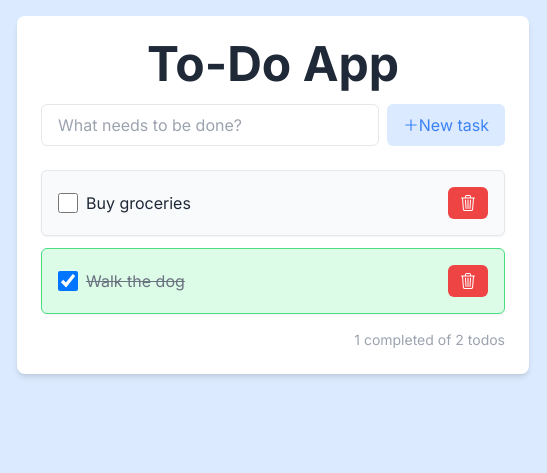
it: adds a new todo
Type "Feed the cat" into the field with test id "todo-textinput".
click(210, 125); type("Feed the cat")  # box [41,104,379,146]
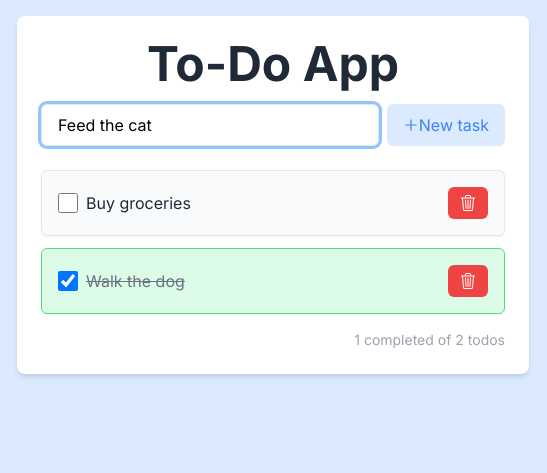
Click the button with test id "todo-submit-button".
click(446, 125)  # box [387,104,505,146]
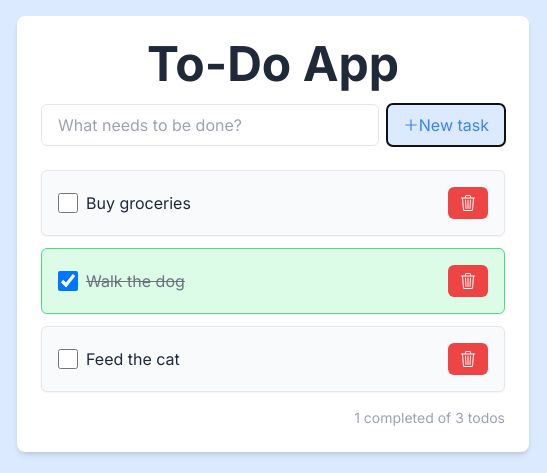
expect the number of list items is 3: met, box [41,170,505,236]; [41,248,505,314]; [41,326,505,392]
expect the text with test id "summary" shows "3 todos": met, box [354,408,505,428]
